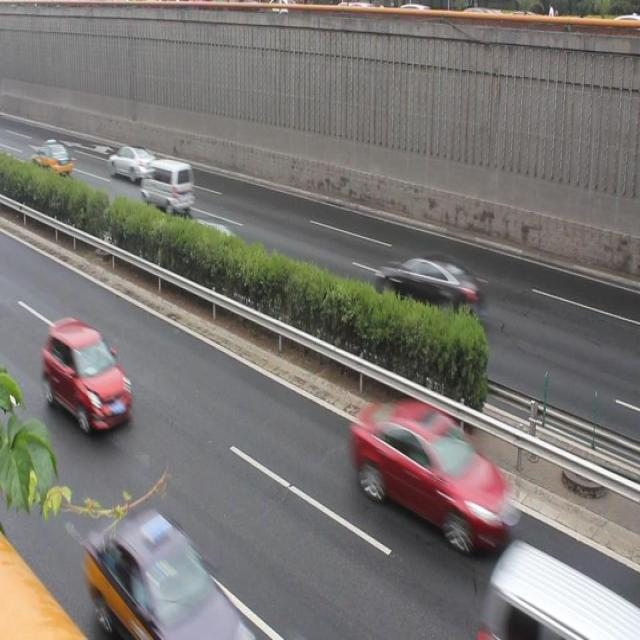car: (346, 392, 519, 534), (86, 509, 246, 640), (39, 314, 131, 433), (375, 244, 485, 330), (182, 211, 245, 275), (103, 143, 158, 190), (30, 138, 76, 182)
truck: (478, 531, 628, 640), (142, 160, 196, 217)
